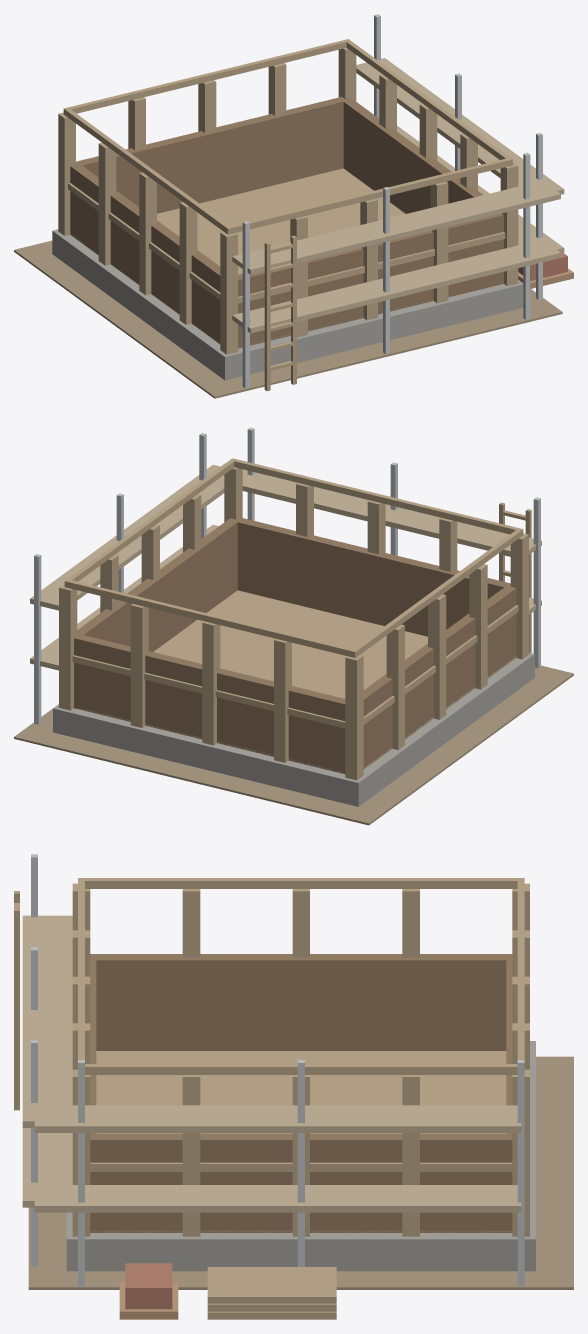
Rendered from horse_stable_site_6.glb.
3 views of the same model, one above another, from view 1: azimuth 30°, elevation 25°; view 2: azimuth 150°, elevation 25°; view 3: azimuth 270°, elevation 25° (orthographic). The views are drawn at different scales.
Parts seen in each view (by area): view 1: body; view 2: body; view 3: body.
Boxes of the visible parts, box(x1,y1,x2,y2) form: body: box(14, 14, 573, 398); body: box(14, 427, 573, 825); body: box(14, 854, 573, 1319).
Size of the model in its own units: 2.1 by 0.8505 by 1.91.
